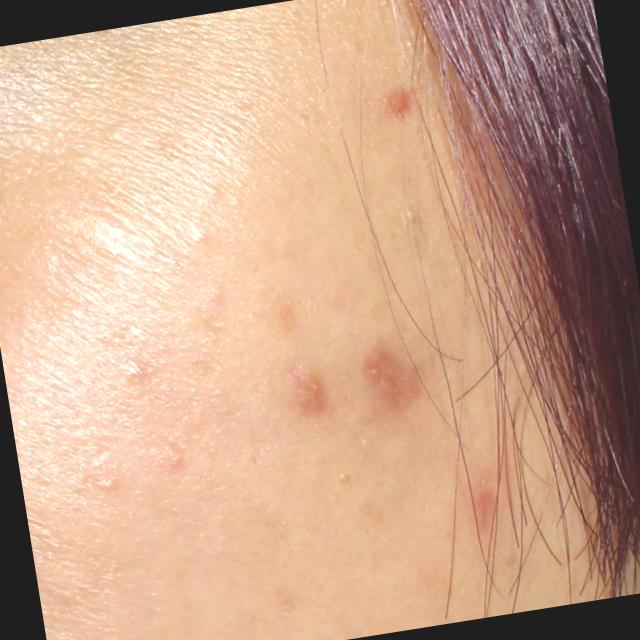nodule: (349, 324, 438, 437)
